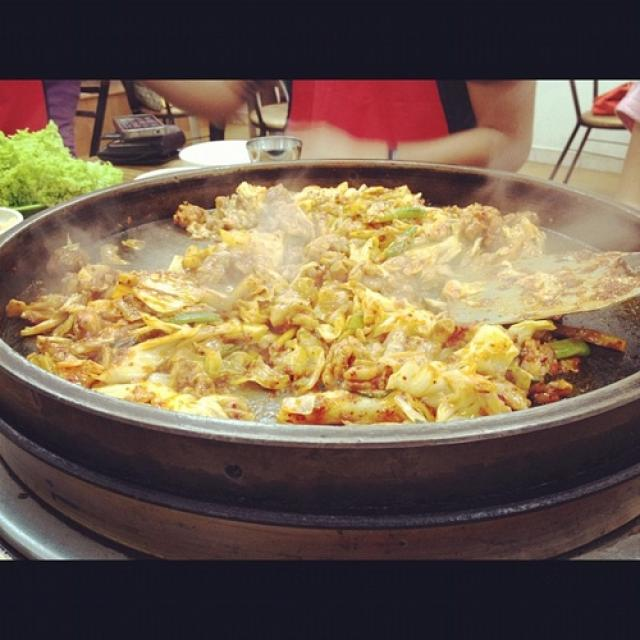鸡肉料理 含炸鸡: (22, 99, 631, 532)
